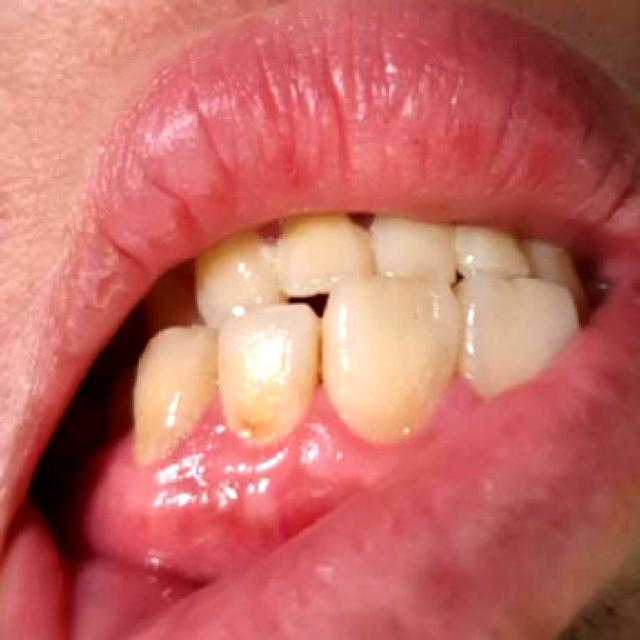Plaque: (109, 373, 480, 504), (253, 219, 286, 246), (349, 215, 374, 229)
